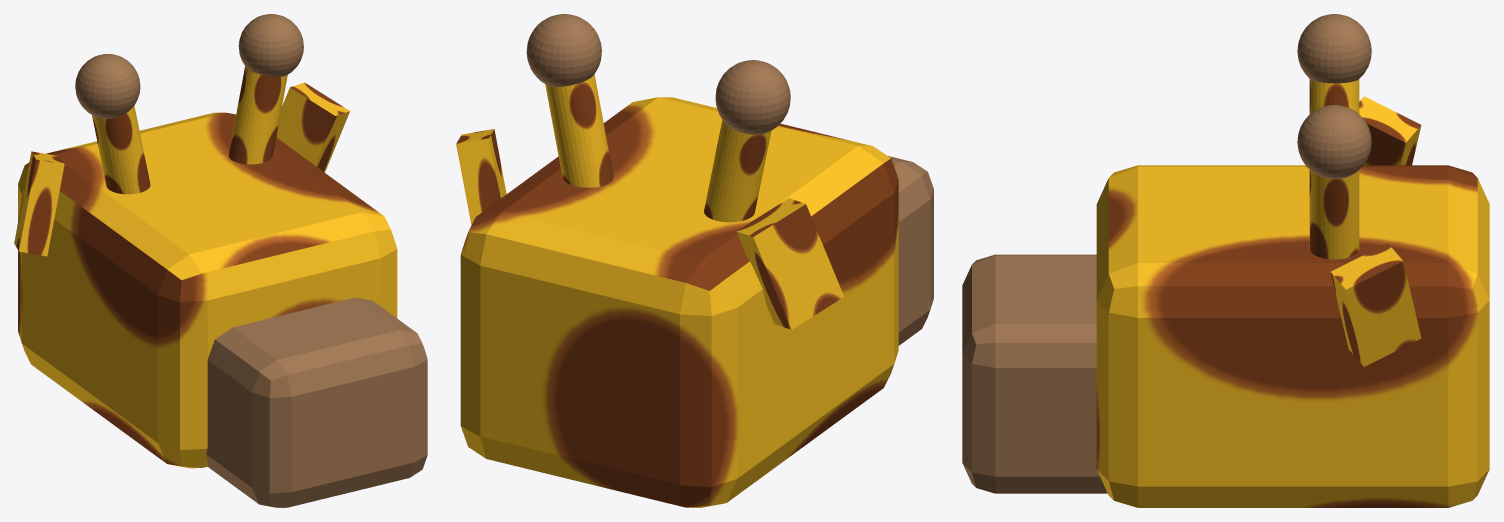
The model's file is giraffe_head.glb.
3 renders of one model, left to right at view 1: azimuth 30°, elevation 25°; view 2: azimuth 150°, elevation 25°; view 3: azimuth 270°, elevation 25°, orthographic. The views are drawn at different scales.
Parts seen in each view (by area): view 1: HeadMesh, Cube, Cube.002, Cylinder.001, Cube.001, Cylinder, Sphere, Sphere.001; view 2: HeadMesh, Cube.001, Cube, Cylinder.001, Cylinder, Sphere, Sphere.001, Cube.002; view 3: HeadMesh, Cube, Cube.002, Sphere.001, Sphere, Cylinder.001, Cube.001, Cylinder.
Boxes of the visible parts, x1,y1,x2,y2 form: HeadMesh: (18,112,397,468); Cube: (206,297,427,507); Cube.002: (276,82,349,172); Cylinder.001: (228,66,287,164); Cube.001: (14,151,64,256); Cylinder: (92,106,150,194); Sphere: (75,54,140,118); Sphere.001: (238,14,303,77); HeadMesh: (460,97,898,507); Cube.001: (736,198,843,329); Cube: (888,156,933,345); Cylinder.001: (545,74,613,187); Cylinder: (704,120,771,222); Sphere: (715,60,790,134); Sphere.001: (526,14,601,86); Cube.002: (456,129,506,224); HeadMesh: (1096,165,1489,507); Cube: (962,254,1107,493); Cube.002: (1330,243,1421,366); Sphere.001: (1297,105,1371,178); Sphere: (1297,14,1371,83); Cylinder.001: (1309,170,1359,259); Cube.001: (1359,96,1421,165); Cylinder: (1309,79,1359,113).
Size of the model in its own units: 1.05 by 1.05 by 1.28.
2 materials, 1 textured.
